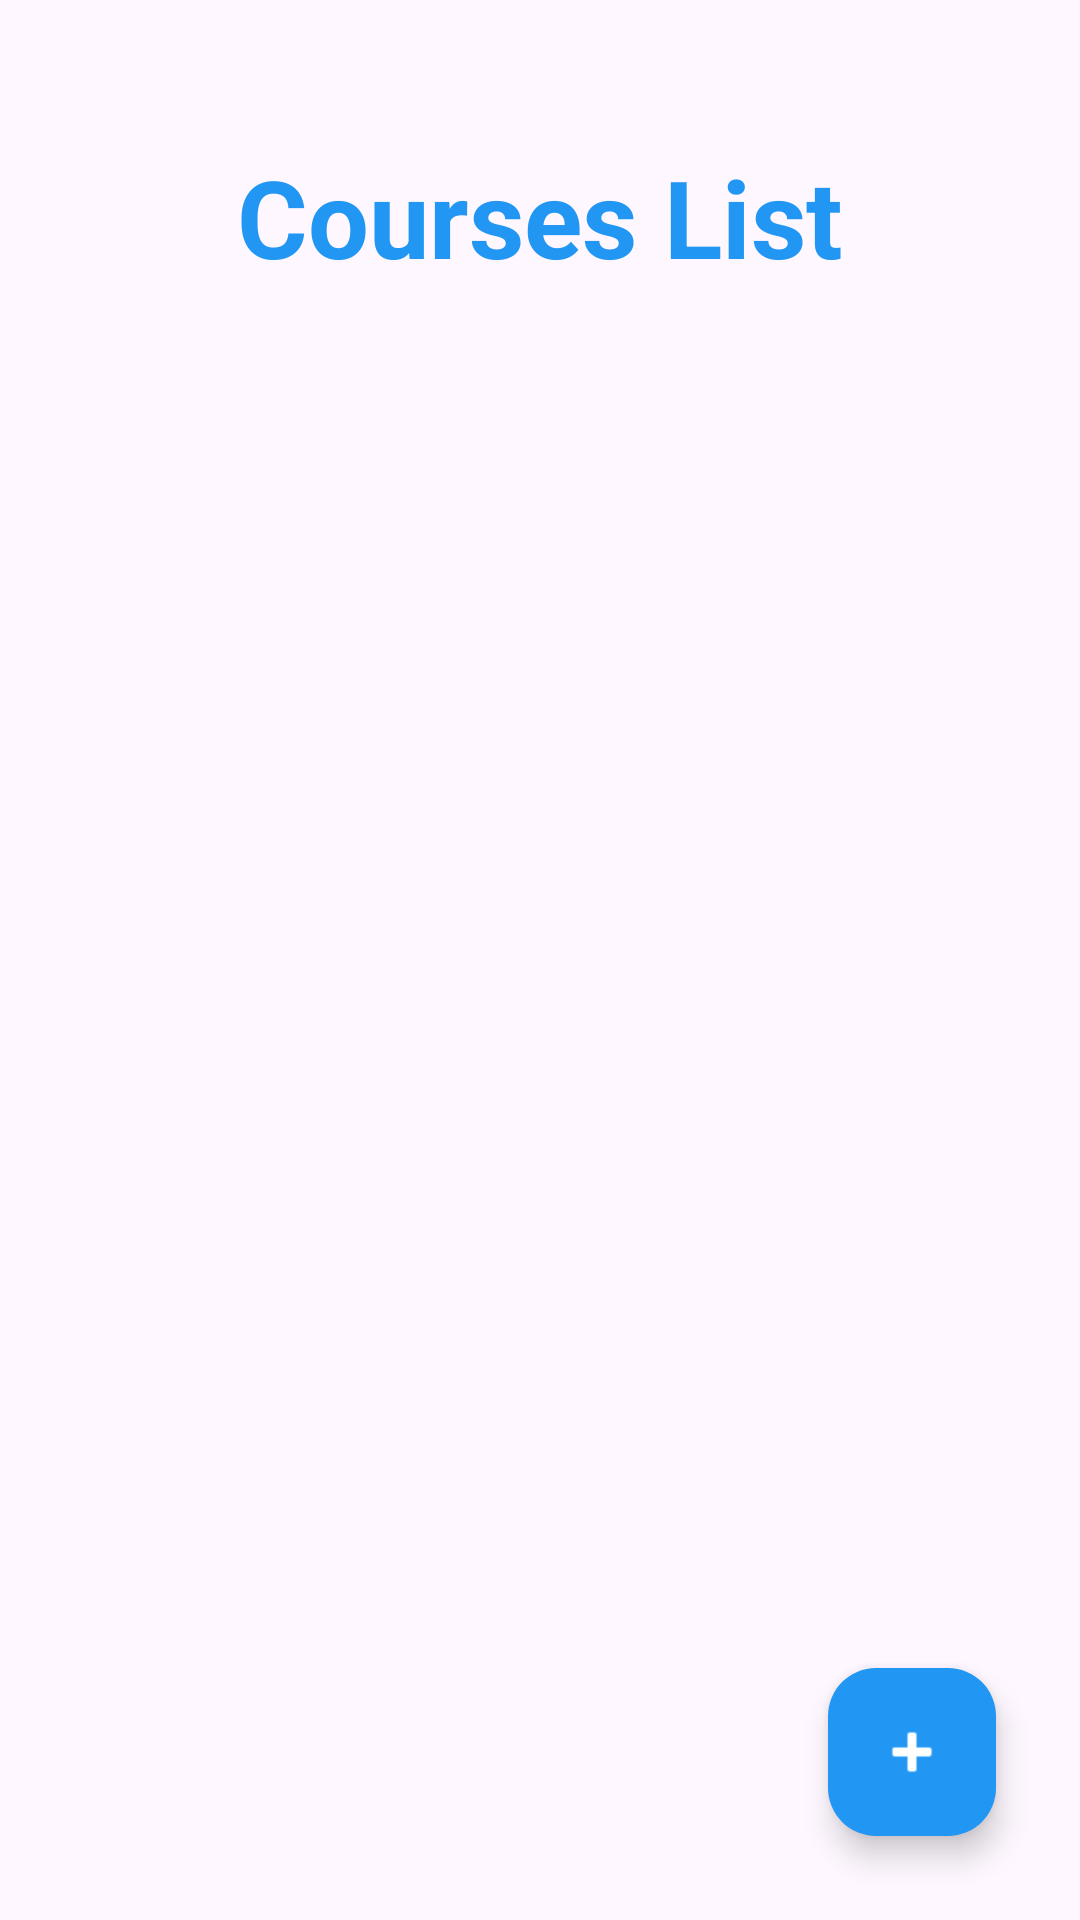

Icon click points for this 1080px×1920px phone screenshot, format [x,y]:
add: [912,1752]
